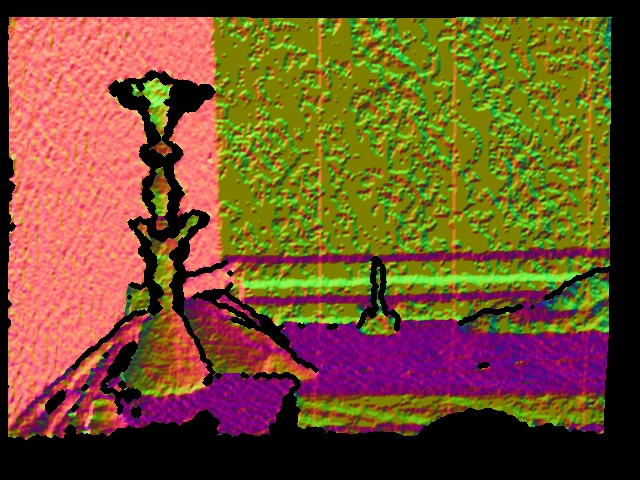station: (355, 259, 401, 336)
